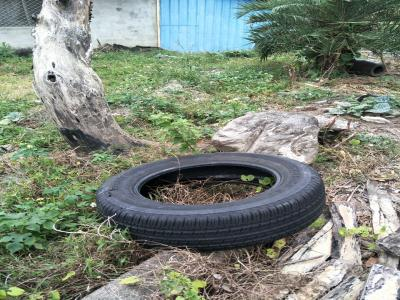tire: (90, 148, 328, 252)
